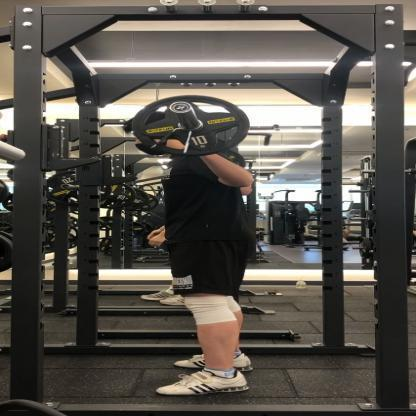Barbell: (169, 101, 196, 115)
